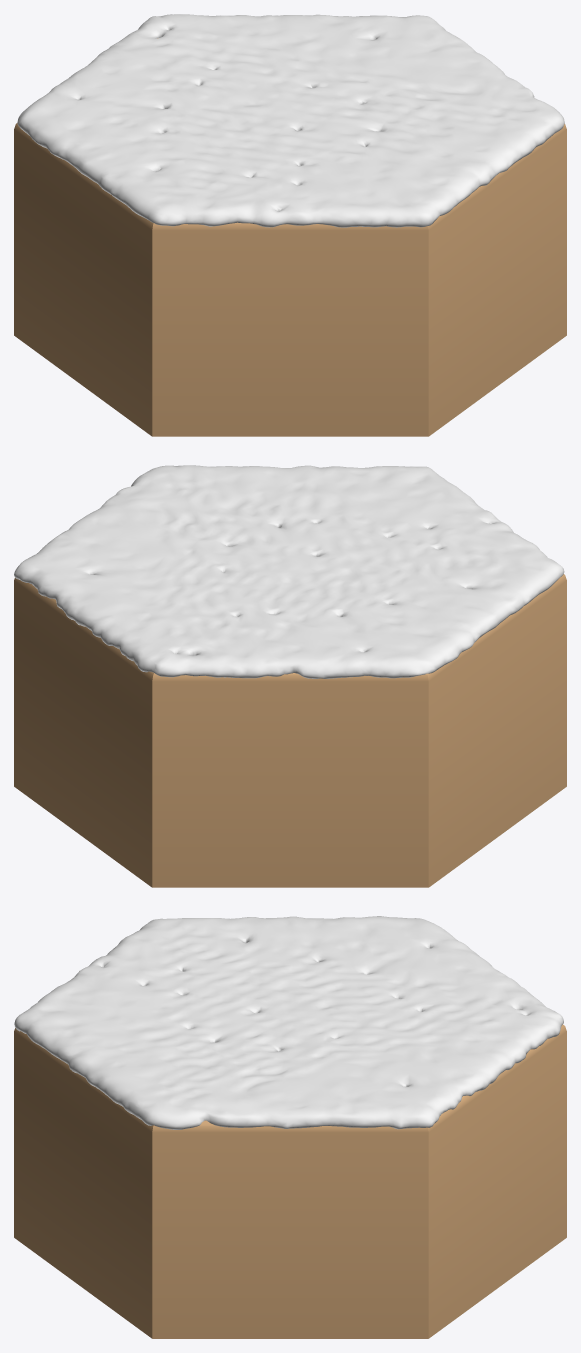
Rendered from hex_sand.fbx.
3 views of the same model, one above another, from view 1: azimuth 30°, elevation 25°; view 2: azimuth 150°, elevation 25°; view 3: azimuth 270°, elevation 25° (orthographic).
Visible parts, largest first — view 1: hex_sand, SnowBall.001; view 2: hex_sand, SnowBall.001; view 3: hex_sand, SnowBall.001.
Boxes of the visible parts, x1=… form: hex_sand: x1=14, y1=38, x2=566, y2=436; SnowBall.001: x1=17, y1=14, x2=564, y2=227; hex_sand: x1=14, y1=574, x2=566, y2=887; SnowBall.001: x1=14, y1=465, x2=564, y2=678; hex_sand: x1=14, y1=1024, x2=566, y2=1338; SnowBall.001: x1=14, y1=916, x2=563, y2=1129.
Bounding box in the file's own units: 203 × 103 × 231.
